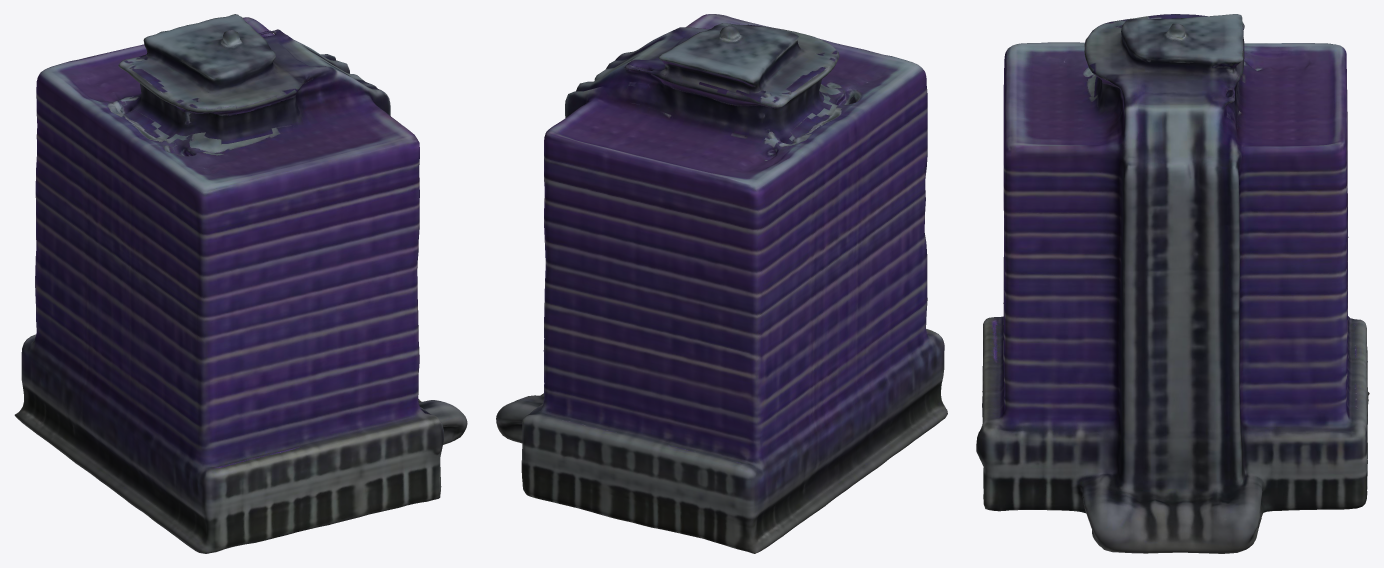
File: 9d3f0d0d2ead_b182b18f7fa1_hibrido_entre_un_ed.glb
The picture shows the model from 3 angles, left to right: view 1: azimuth 30°, elevation 25°; view 2: azimuth 150°, elevation 25°; view 3: azimuth 270°, elevation 25°; orthographic projection.
Parts seen in each view (by area): view 1: mesh; view 2: mesh; view 3: mesh.
Boxes of the visible parts, x1,y1,x2,y2 form: mesh: (14,14,467,553); mesh: (496,14,947,553); mesh: (976,14,1369,553).
Bounding box in the file's own units: 0.7901 × 0.9987 × 0.8195.
Materials: 1 (1 with a texture image).
